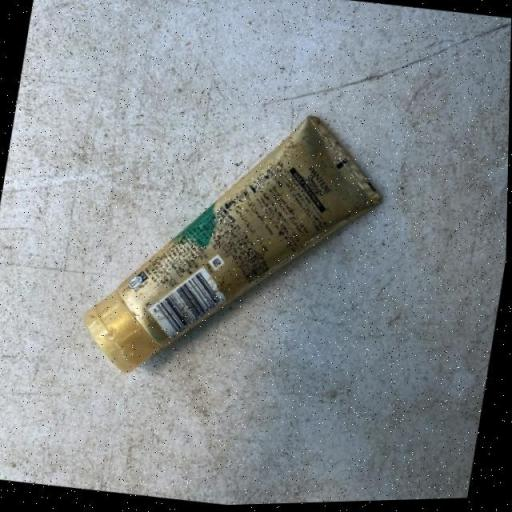plastic: (75, 86, 395, 406)
